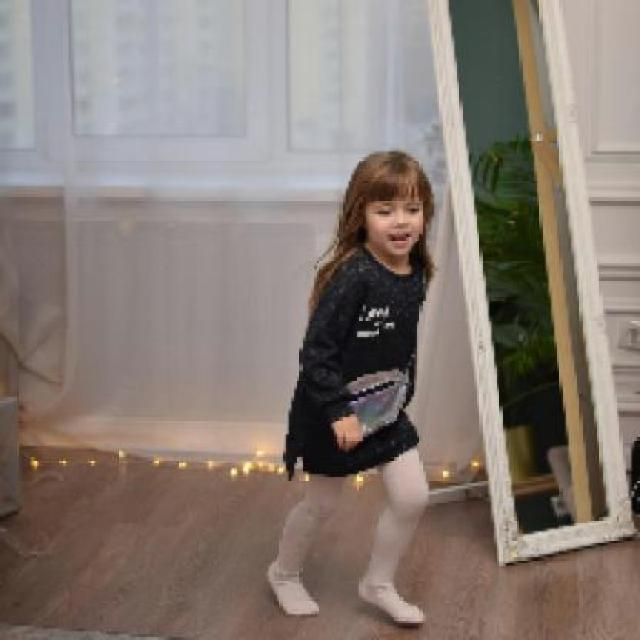child: (264, 148, 436, 626)
